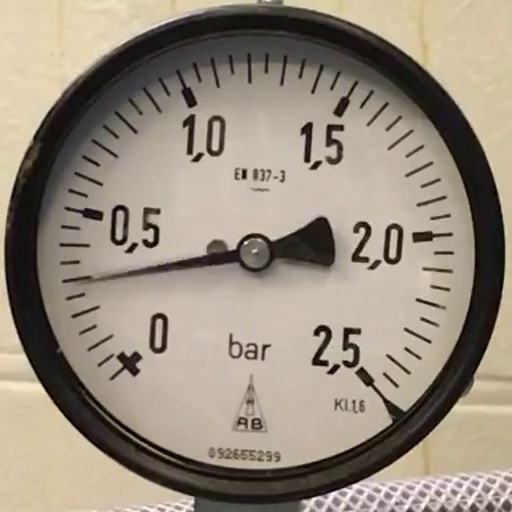base: (238, 233, 273, 272)
circle_plate: (38, 38, 470, 466)
maximum: (355, 365, 374, 387)
minimum: (116, 348, 142, 377)
number: (350, 220, 404, 270), (310, 324, 362, 375), (108, 204, 162, 252), (181, 112, 226, 163), (300, 121, 345, 171), (146, 310, 168, 356)
tip: (81, 278, 93, 287)
